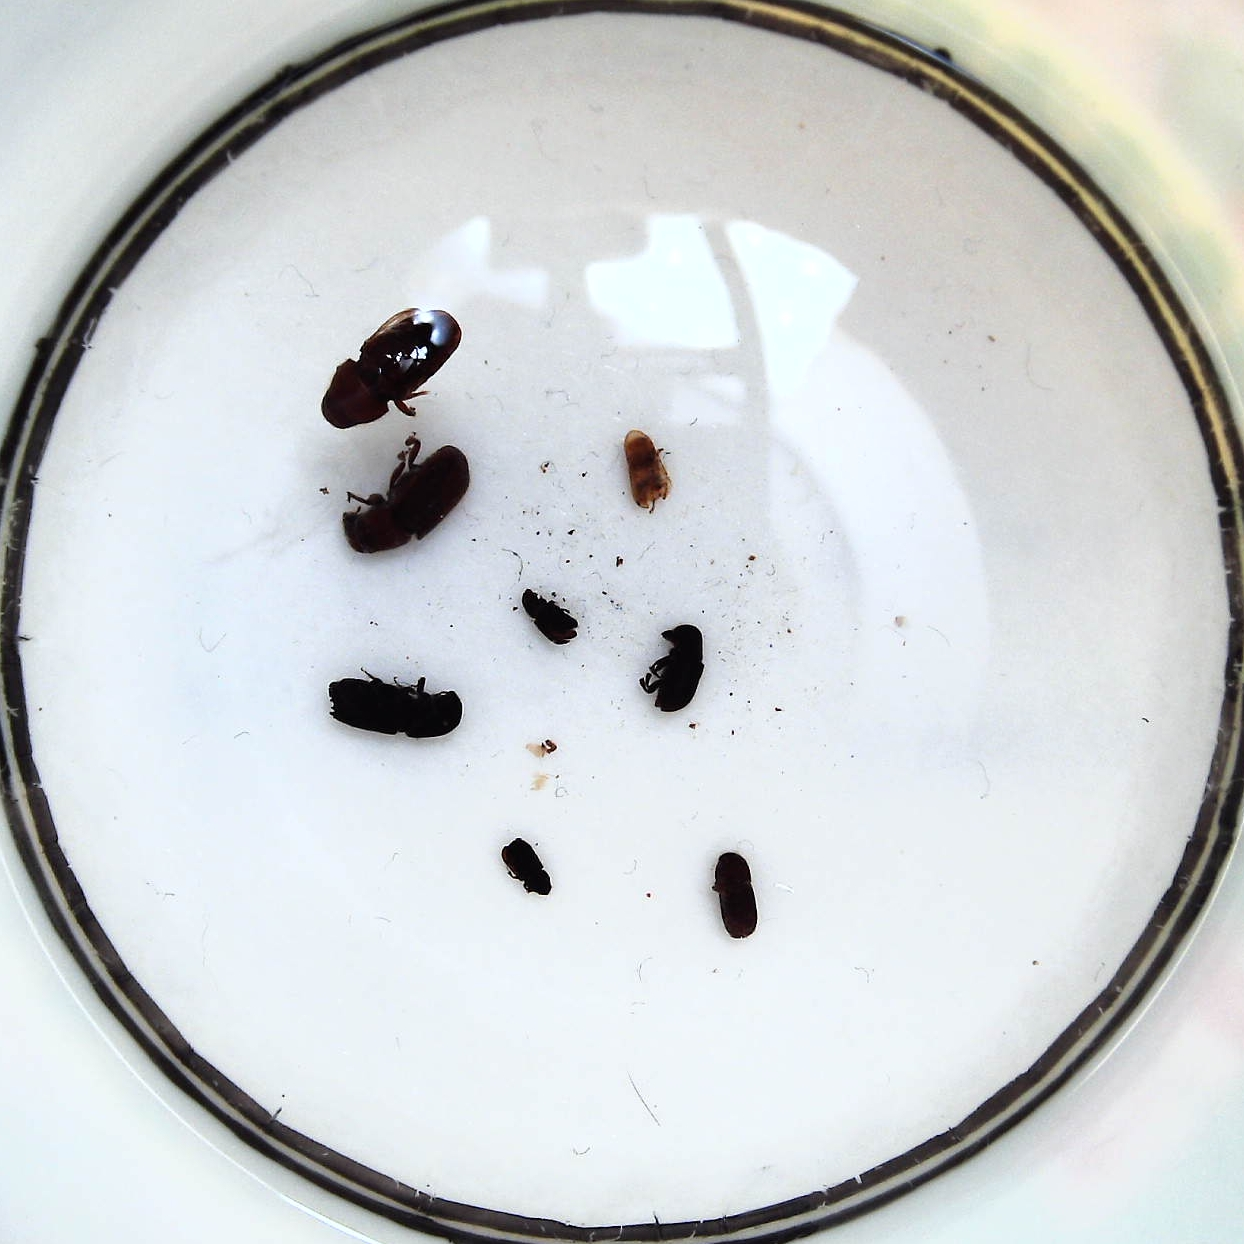Boerner: (328, 677, 463, 737)
Leconte: (320, 309, 463, 429), (342, 447, 470, 554)
acuminatus: (522, 589, 578, 645), (501, 837, 551, 897)
armandi: (654, 624, 703, 712)
coleoptera: (624, 429, 670, 510)
linnaeus: (714, 852, 758, 939)
